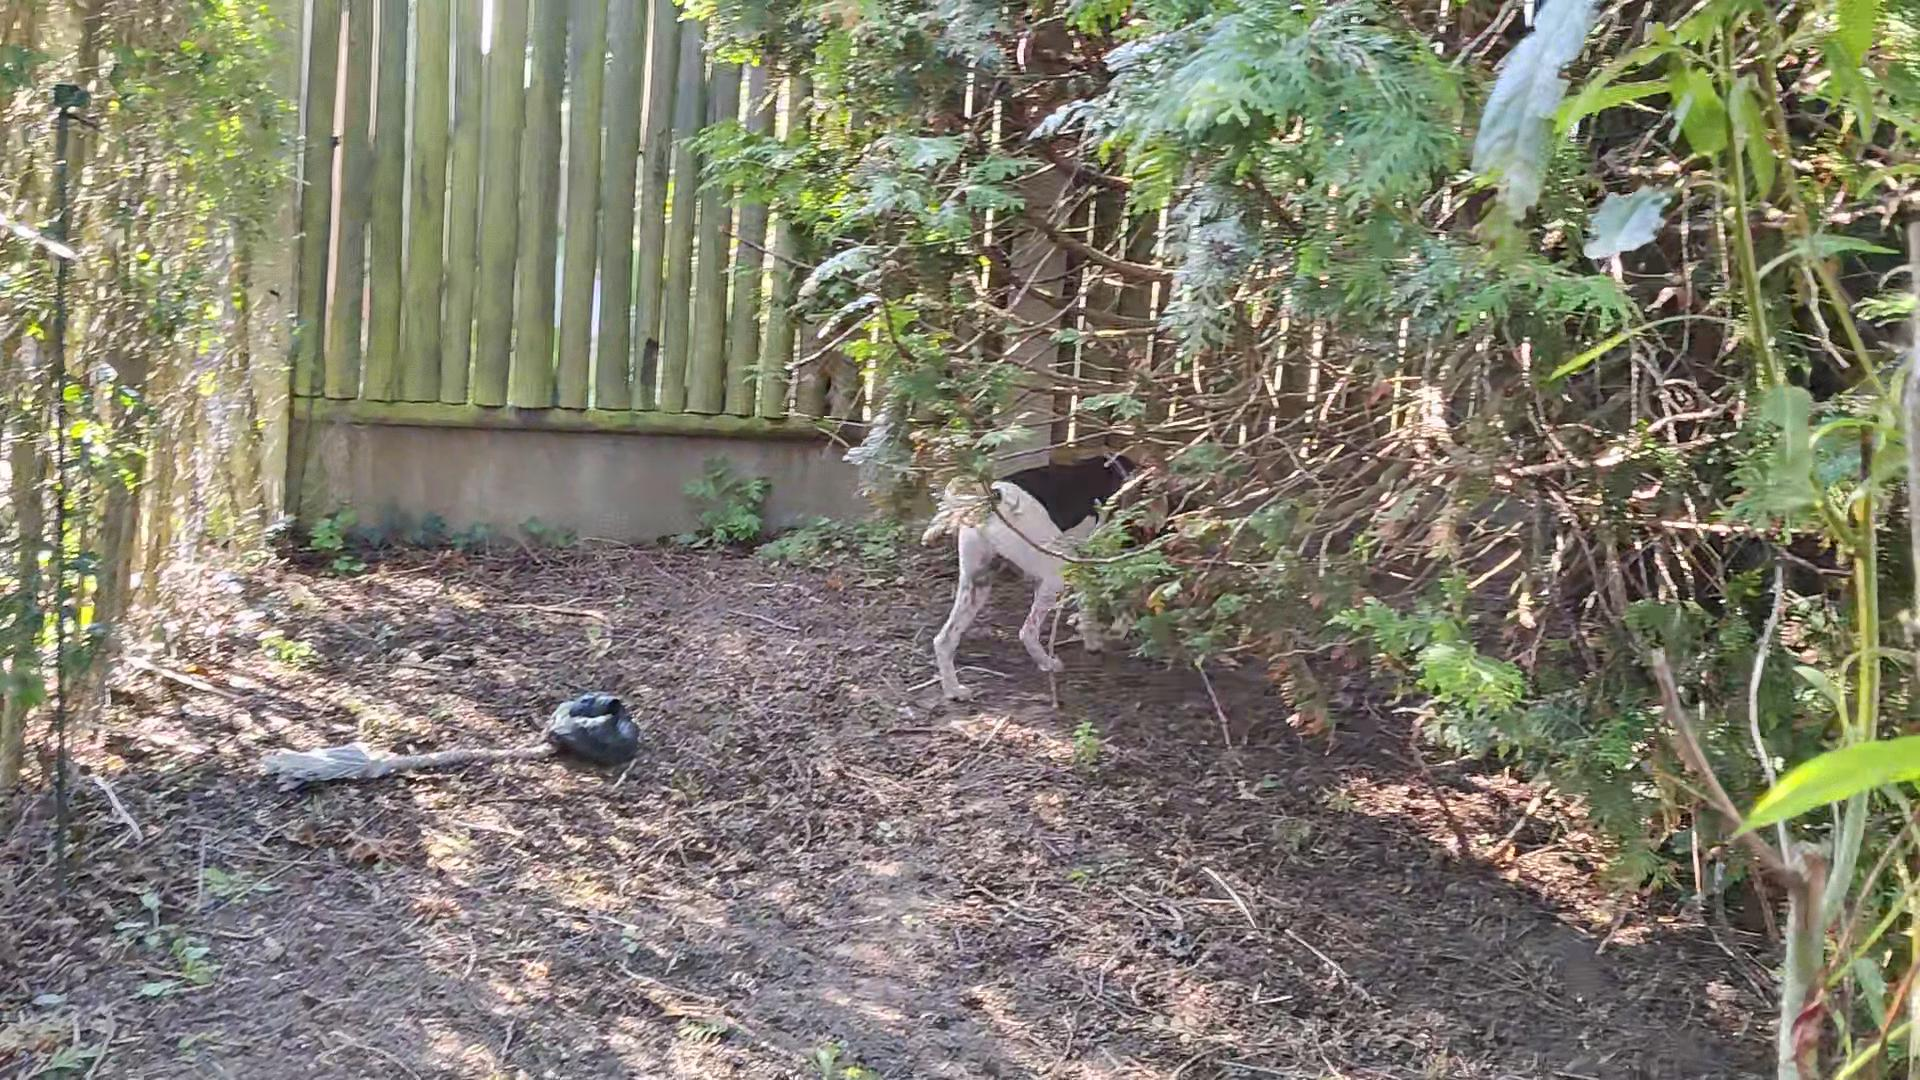Dog: (920, 444, 1215, 713)
